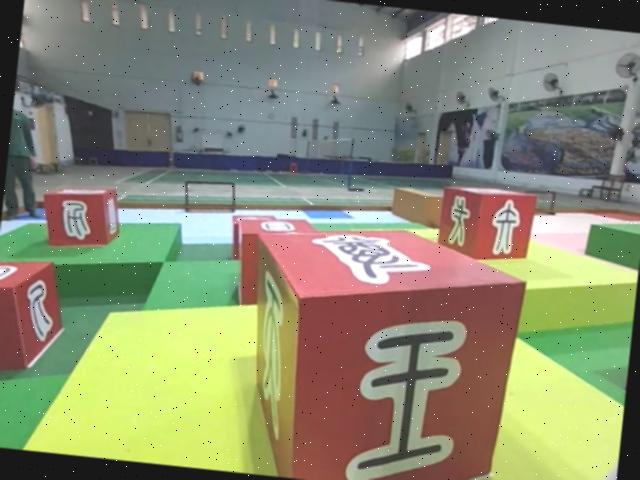R2 Fake: (233, 211, 530, 480), (0, 255, 71, 378), (434, 184, 538, 266), (39, 182, 120, 256)
